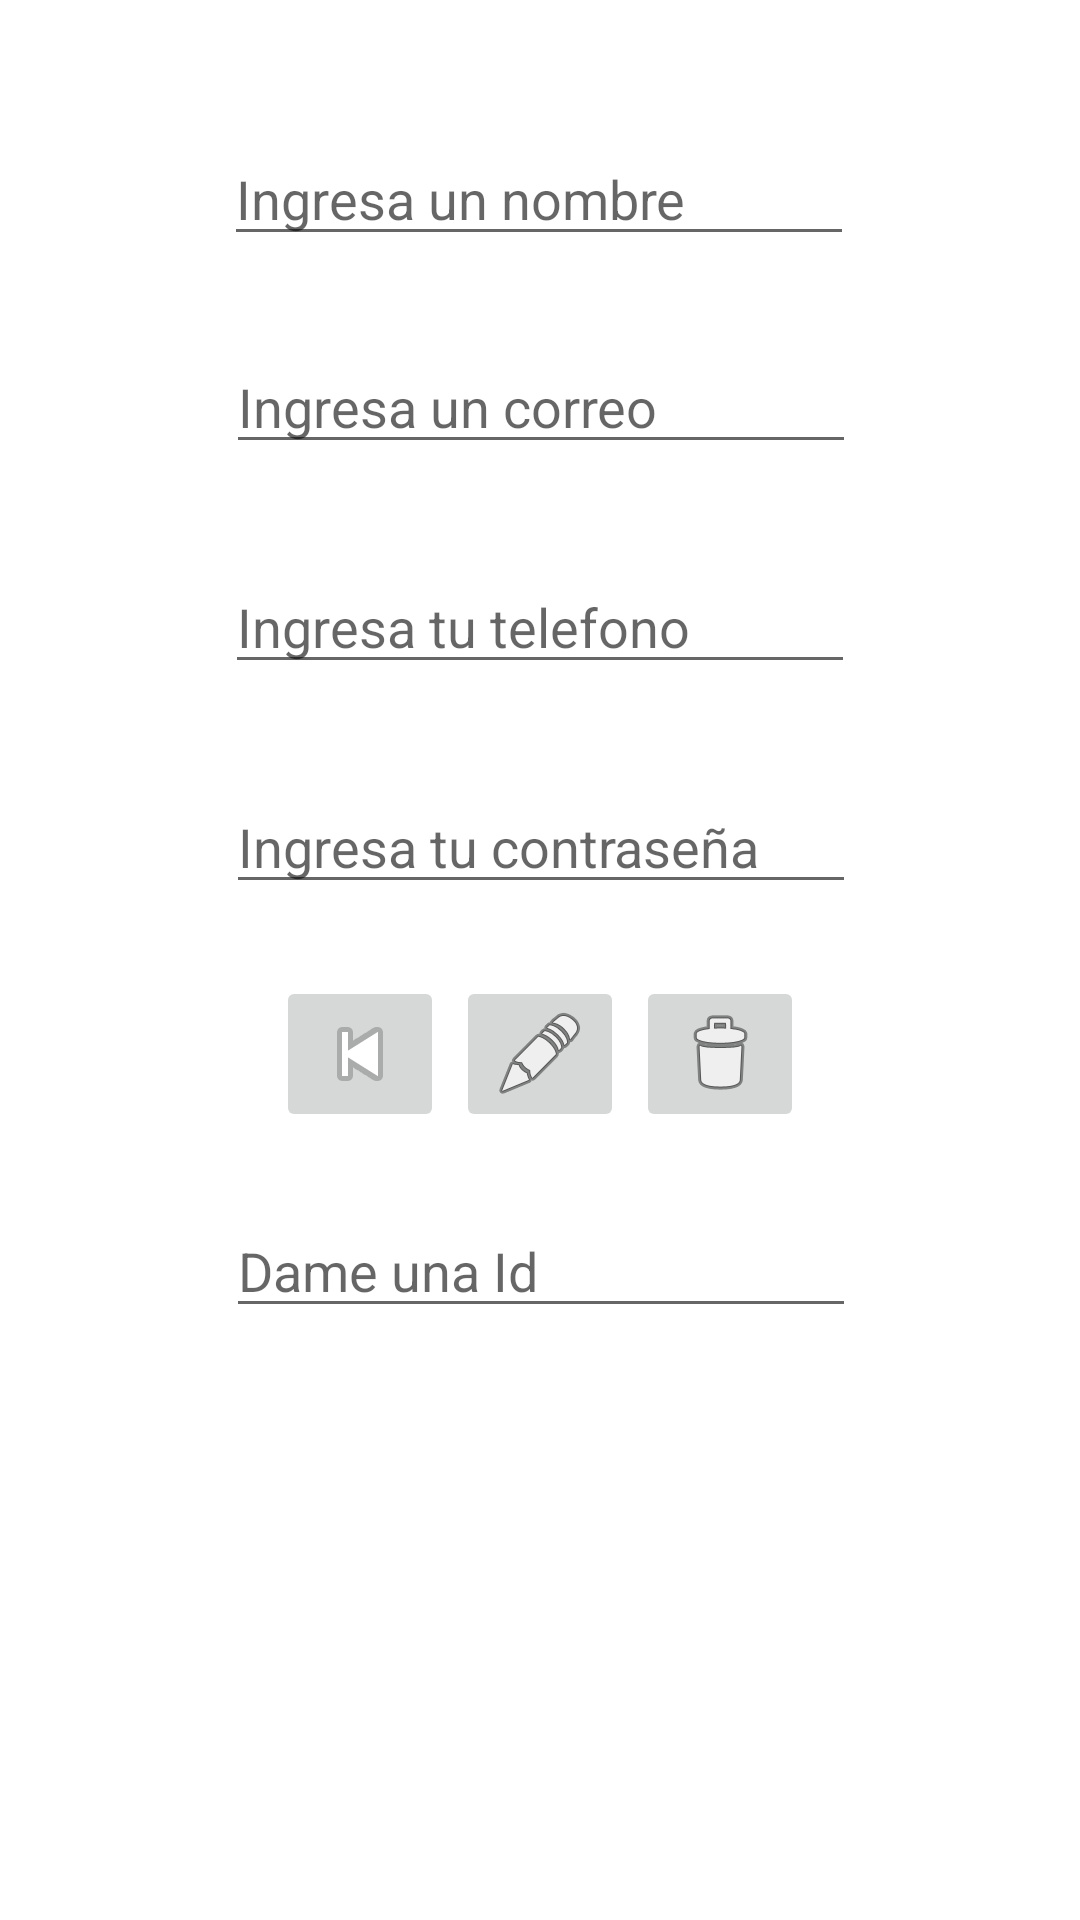

Locate icon controls on the screen. Image size 1080 × 1920, boxes as (x1, y1, x2, y2).
delete: (648, 994, 792, 1114)
edit: (468, 994, 612, 1114)
previous: (288, 994, 432, 1114)
